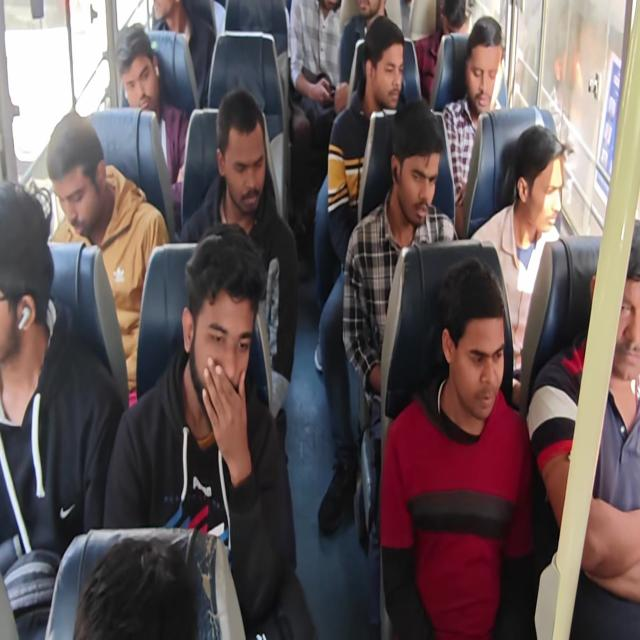person: (67, 531, 226, 640), (438, 280, 504, 424), (187, 262, 247, 416), (0, 184, 49, 365), (591, 236, 640, 394), (49, 107, 107, 240), (219, 116, 270, 210), (518, 147, 570, 237), (398, 136, 440, 222), (113, 47, 160, 112), (463, 33, 498, 113), (432, 0, 471, 62), (373, 52, 407, 110), (139, 0, 181, 38), (350, 0, 383, 27)
